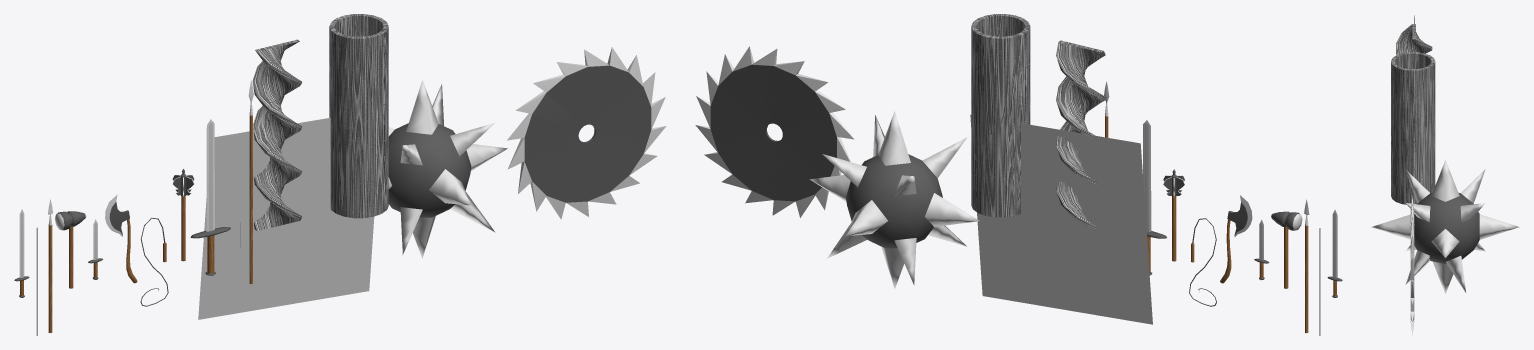
File: Weapons.FBX
The picture shows the model from 3 angles, left to right: view 1: azimuth 30°, elevation 25°; view 2: azimuth 150°, elevation 25°; view 3: azimuth 270°, elevation 25°; orthographic projection. The views are drawn at different scales.
Parts seen in each view (by area): view 1: Plane002, Serrated Disk, Pipe, Spiked Ball, Corkscrew, Sword 2H, Axe, Battle, Pike, Warhammer, Mace, Spear, Sword Long; view 2: Plane002, Serrated Disk, Spiked Ball, Pipe, Corkscrew, Sword 2H, Axe, Battle, Warhammer, Mace, Spear, Sword Long; view 3: Spiked Ball, Pipe, Corkscrew, Serrated Disk.
Boxes of the visible parts, bbox=[...] form: Plane002: bbox=[198, 117, 374, 319]; Serrated Disk: bbox=[507, 47, 666, 219]; Pipe: bbox=[329, 14, 388, 218]; Spiked Ball: bbox=[388, 80, 507, 258]; Corkscrew: bbox=[252, 39, 302, 231]; Sword 2H: bbox=[190, 119, 230, 275]; Axe, Battle: bbox=[105, 194, 137, 283]; Pike: bbox=[248, 80, 253, 284]; Warhammer: bbox=[55, 211, 86, 288]; Mace: bbox=[172, 169, 194, 261]; Spear: bbox=[48, 199, 52, 332]; Sword Long: bbox=[14, 209, 29, 297]; Plane002: bbox=[970, 114, 1152, 324]; Serrated Disk: bbox=[695, 46, 854, 217]; Spiked Ball: bbox=[809, 111, 979, 288]; Pipe: bbox=[971, 14, 1030, 217]; Corkscrew: bbox=[1056, 40, 1105, 229]; Sword 2H: bbox=[1143, 120, 1166, 275]; Axe, Battle: bbox=[1220, 195, 1252, 283]; Warhammer: bbox=[1271, 211, 1302, 288]; Mace: bbox=[1163, 169, 1184, 261]; Spear: bbox=[1304, 199, 1309, 333]; Sword Long: bbox=[1327, 209, 1342, 297]; Spiked Ball: bbox=[1371, 160, 1519, 293]; Pipe: bbox=[1391, 52, 1435, 204]; Corkscrew: bbox=[1396, 24, 1432, 54]; Serrated Disk: bbox=[1410, 196, 1414, 335].
Size of the model in its own units: 759 by 302 by 200.
